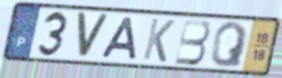3: (36, 10, 69, 58)
A: (99, 16, 138, 62)
B: (173, 18, 212, 66)
K: (140, 16, 177, 64)
Q: (209, 21, 249, 69)
V: (75, 11, 111, 61)
